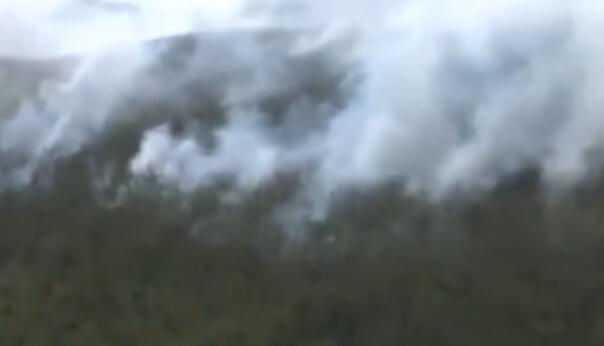yanwu: (1, 0, 604, 233)
